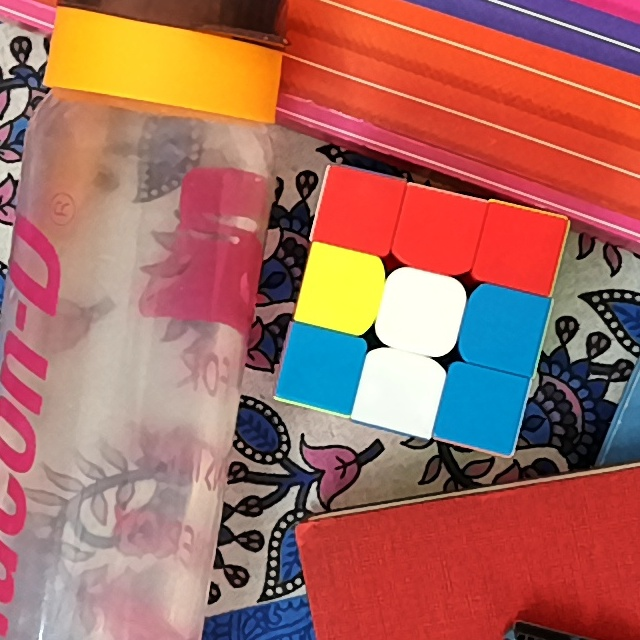tile: (405, 204, 470, 263), (290, 340, 355, 397), (492, 217, 553, 276), (310, 261, 369, 321), (369, 361, 429, 420), (327, 184, 389, 240), (394, 282, 450, 343), (473, 297, 528, 357), (451, 382, 511, 436)
